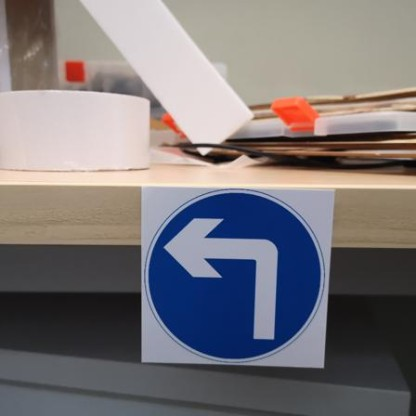left: (139, 175, 329, 372)
